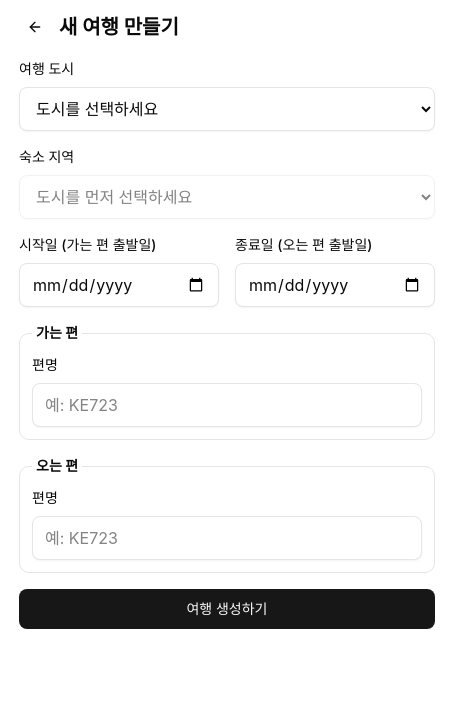
Test: TripCreatePage › previews 7C1302 with a +1 badge on the next-day arrival
Select "오사카" in the dropdown labelled "여행 도시": (227, 109) [19, 87, 435, 131]
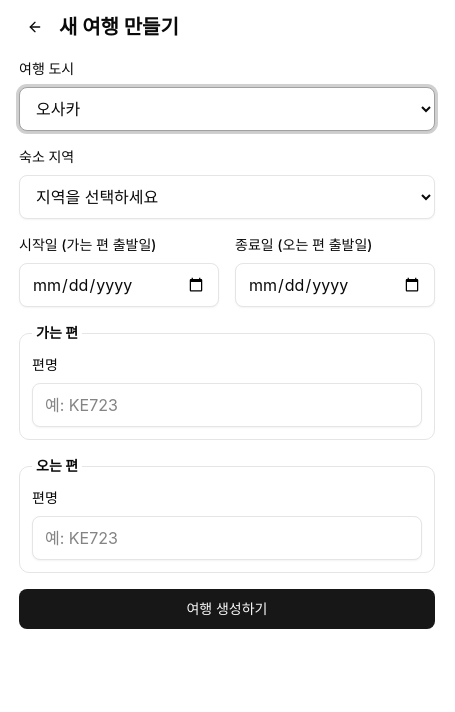
In the date field labelled "시작일 (가는 편 출발일)": (119, 285) [19, 263, 219, 307], type "2026-11-30"
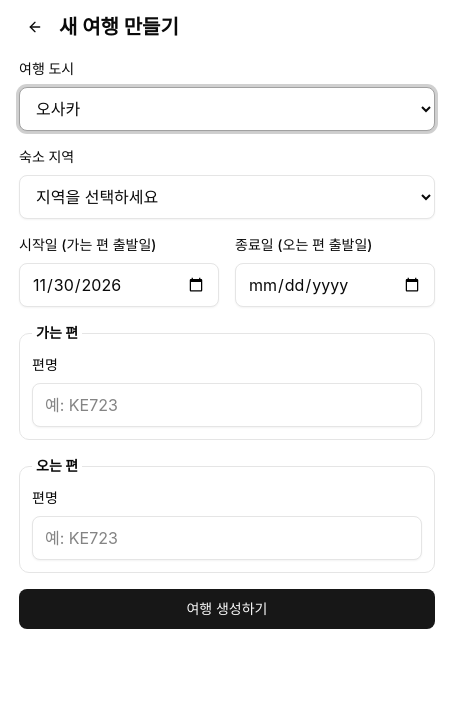
In the 1st field labelled "편명": (227, 405) [32, 383, 422, 427], type "7C1302"
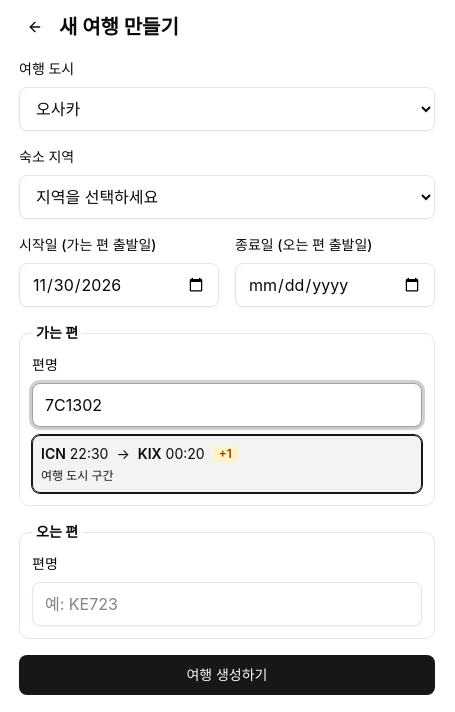
Now the text "+1" is shown, box [213, 446, 238, 462]
Now the text "22:30" is shown, box [70, 444, 108, 464]
Now the text "00:20" is shown, box [166, 444, 205, 464]
